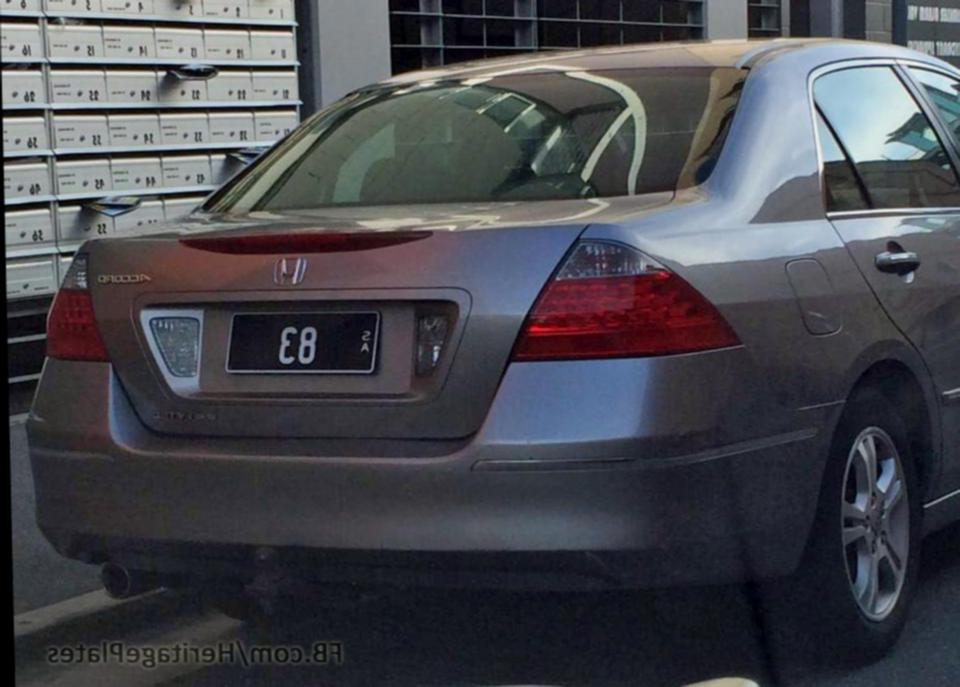License_Plate: (216, 301, 391, 382)
